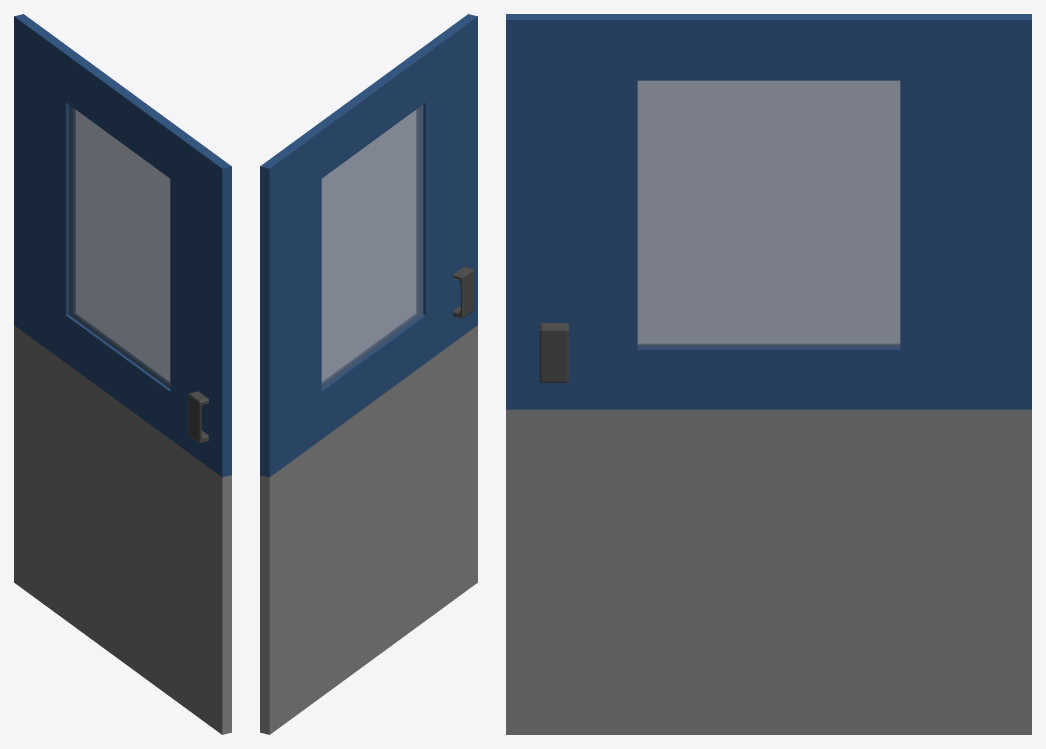
Rendered from Obj_LabDoor 1.fbx.
The picture shows the model from 3 angles, left to right: view 1: azimuth 30°, elevation 25°; view 2: azimuth 150°, elevation 25°; view 3: azimuth 270°, elevation 25°; orthographic projection. The views are drawn at different scales.
Visible parts, largest first — view 1: Obj_LabDoor; view 2: Obj_LabDoor; view 3: Obj_LabDoor.
Boxes of the visible parts, x1,y1,x2,y2 form: Obj_LabDoor: [14, 14, 231, 734]; Obj_LabDoor: [260, 14, 477, 734]; Obj_LabDoor: [506, 14, 1031, 734].
Bounding box in the file's own units: 0.163 × 3 × 2.
